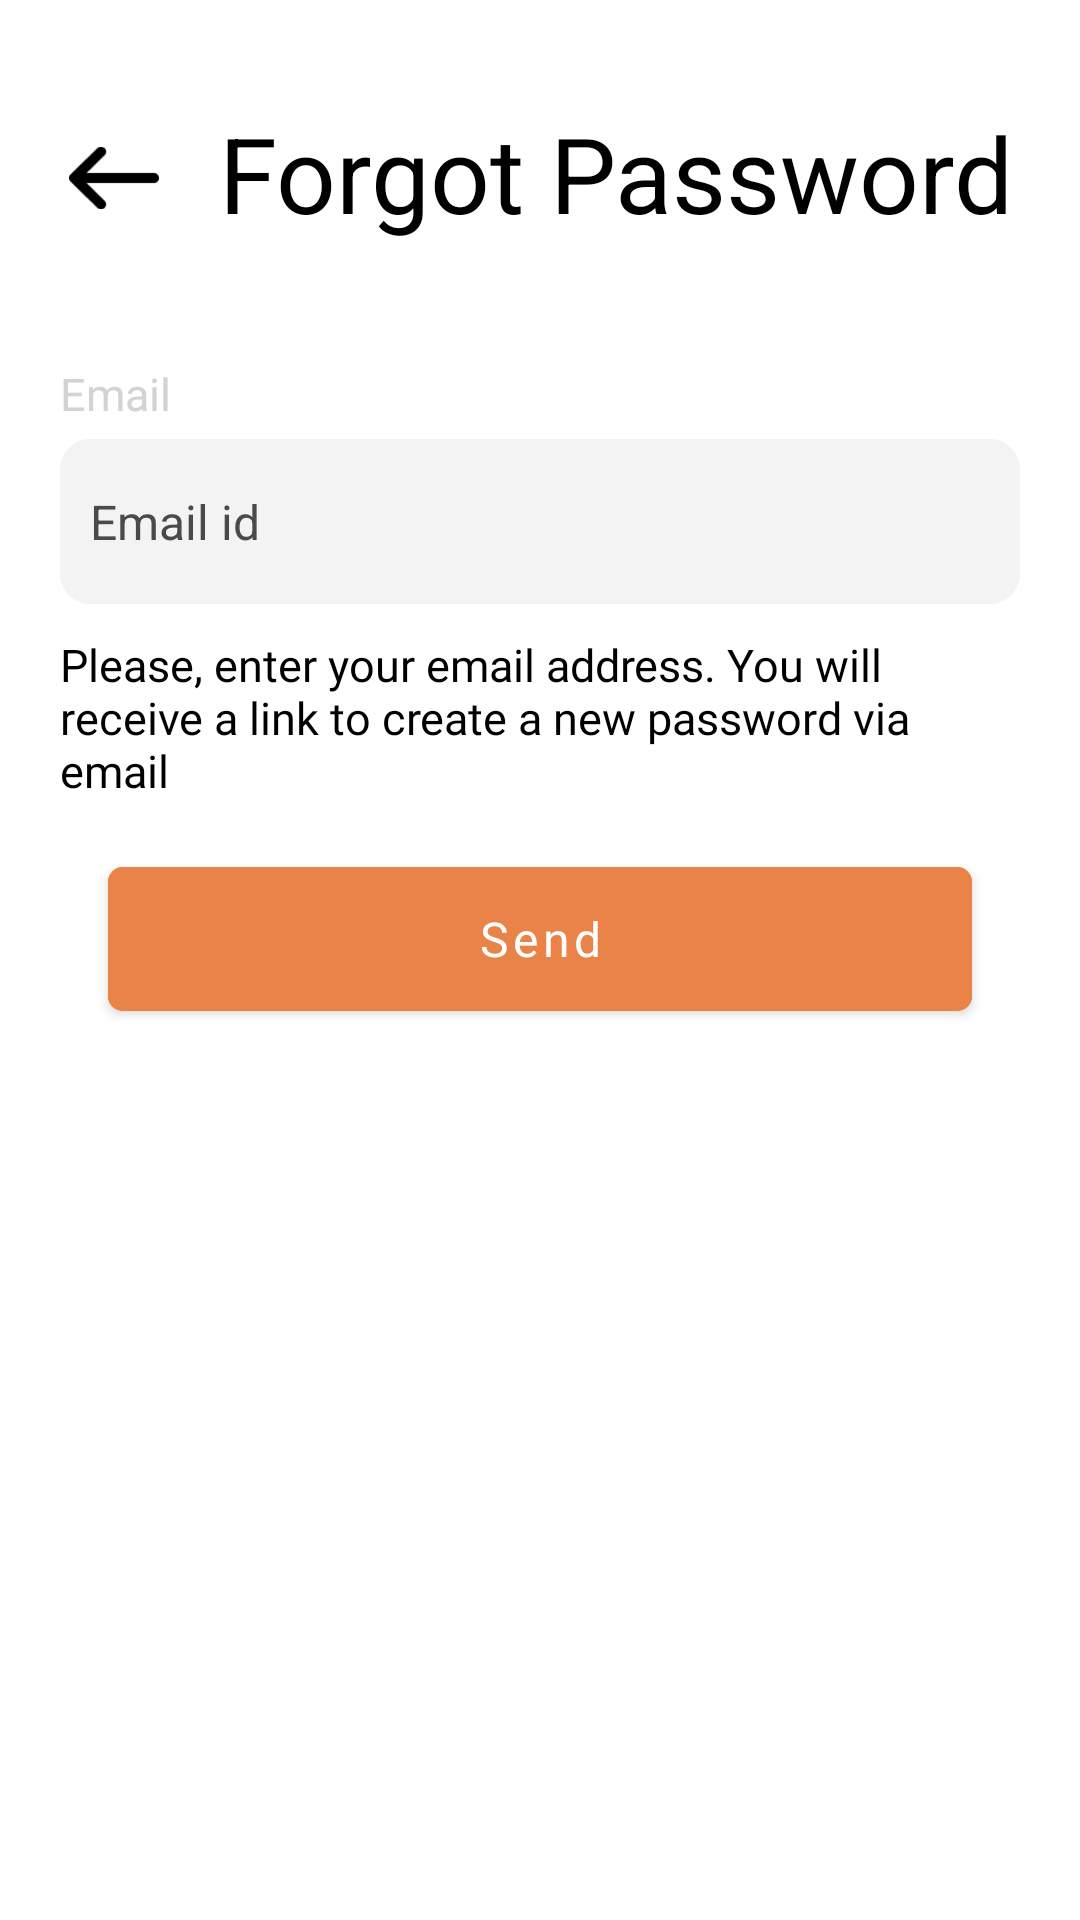

Screen size 1080 x 1920. Icon name, then its box in pixels as bbox(x1, y1, x2, y2):
back arrow: bbox(69, 147, 159, 209)
